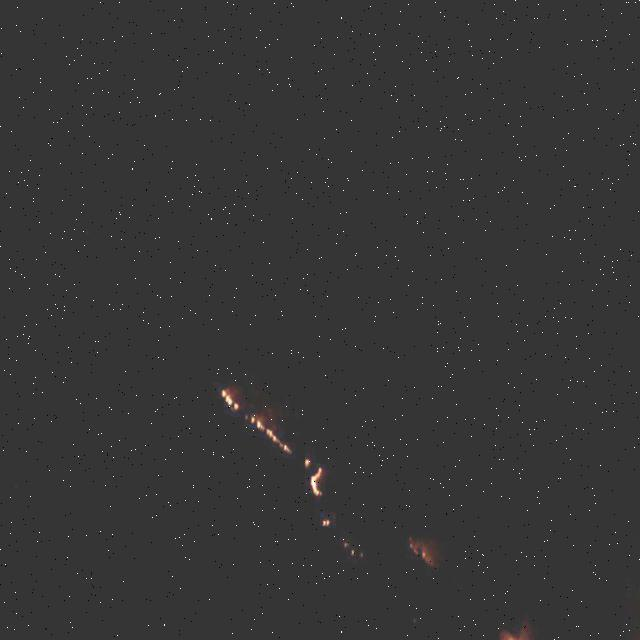Fire: (252, 408, 294, 443), (498, 605, 528, 639), (309, 452, 323, 485), (222, 379, 238, 400)
